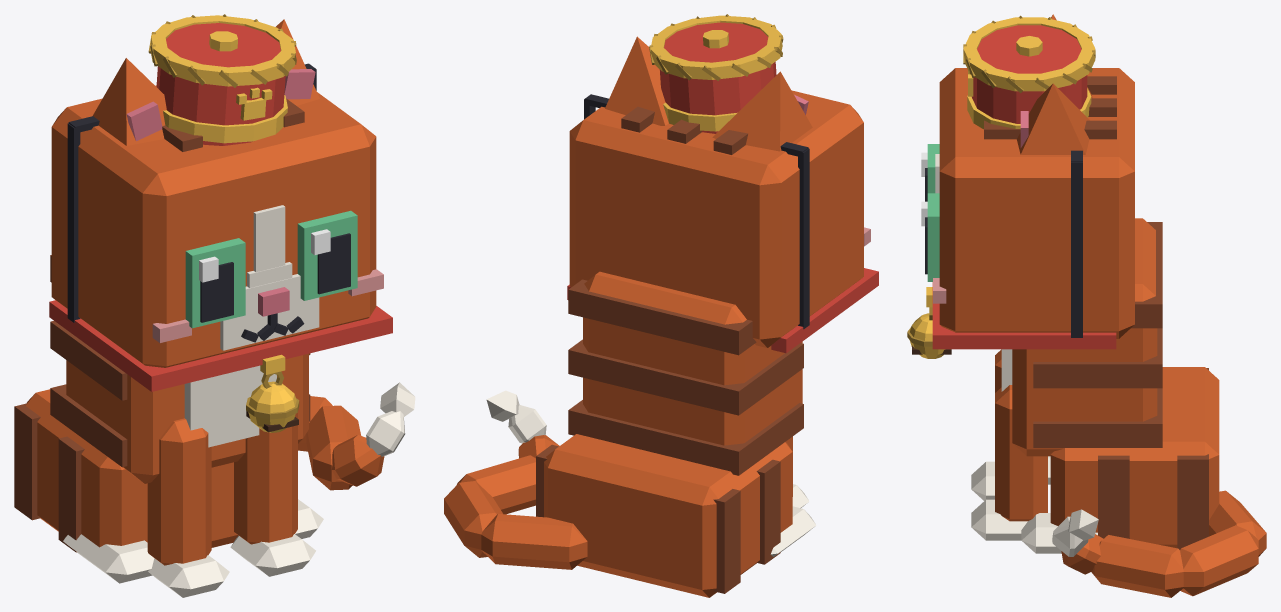
The model's file is CatCafe_Cat_BellhopCat_Sit.glb.
3 views of the same model, side by side, from view 1: azimuth 30°, elevation 25°; view 2: azimuth 150°, elevation 25°; view 3: azimuth 270°, elevation 25° (orthographic). The views are drawn at different scales.
Visible parts, largest first — view 1: CatCafe_Cat_BellhopCat_Sit_Head, CatCafe_Cat_BellhopCat_Sit_Body, CatCafe_Cat_BellhopCat_Sit_Prop, CatCafe_Cat_BellhopCat_Sit_Prop2, CatCafe_Cat_BellhopCat_Sit_LegF2, CatCafe_Cat_BellhopCat_Sit_LegF1, CatCafe_Cat_BellhopCat_Sit_Tail, CatCafe_Cat_BellhopCat_Sit_Eye2, CatCafe_Cat_BellhopCat_Sit_Eye1, CatCafe_Cat_BellhopCat_Sit_EarR, CatCafe_Cat_BellhopCat_Sit_Bell, CatCafe_Cat_BellhopCat_Sit_EarL; view 2: CatCafe_Cat_BellhopCat_Sit_Body, CatCafe_Cat_BellhopCat_Sit_Head, CatCafe_Cat_BellhopCat_Sit_Tail, CatCafe_Cat_BellhopCat_Sit_Prop, CatCafe_Cat_BellhopCat_Sit_Prop2, CatCafe_Cat_BellhopCat_Sit_EarR, CatCafe_Cat_BellhopCat_Sit_EarL; view 3: CatCafe_Cat_BellhopCat_Sit_Head, CatCafe_Cat_BellhopCat_Sit_Body, CatCafe_Cat_BellhopCat_Sit_Tail, CatCafe_Cat_BellhopCat_Sit_Prop, CatCafe_Cat_BellhopCat_Sit_LegF1, CatCafe_Cat_BellhopCat_Sit_Prop2, CatCafe_Cat_BellhopCat_Sit_EarL, CatCafe_Cat_BellhopCat_Sit_Eye1, CatCafe_Cat_BellhopCat_Sit_Bell, CatCafe_Cat_BellhopCat_Sit_LegF2, CatCafe_Cat_BellhopCat_Sit_Eye2.
Part boxes in pixels (x1,y1,x2,y2): CatCafe_Cat_BellhopCat_Sit_Head: [51, 85, 383, 367]; CatCafe_Cat_BellhopCat_Sit_Body: [14, 255, 323, 583]; CatCafe_Cat_BellhopCat_Sit_Prop: [148, 14, 296, 145]; CatCafe_Cat_BellhopCat_Sit_Prop2: [49, 63, 392, 391]; CatCafe_Cat_BellhopCat_Sit_LegF2: [147, 418, 229, 597]; CatCafe_Cat_BellhopCat_Sit_LegF1: [230, 412, 315, 576]; CatCafe_Cat_BellhopCat_Sit_Tail: [298, 382, 415, 490]; CatCafe_Cat_BellhopCat_Sit_Eye2: [185, 238, 245, 328]; CatCafe_Cat_BellhopCat_Sit_Eye1: [297, 210, 357, 300]; CatCafe_Cat_BellhopCat_Sit_EarR: [92, 58, 166, 145]; CatCafe_Cat_BellhopCat_Sit_Bell: [246, 371, 299, 432]; CatCafe_Cat_BellhopCat_Sit_EarL: [276, 19, 319, 105]; CatCafe_Cat_BellhopCat_Sit_Body: [536, 271, 816, 597]; CatCafe_Cat_BellhopCat_Sit_Head: [569, 90, 870, 347]; CatCafe_Cat_BellhopCat_Sit_Tail: [444, 390, 587, 569]; CatCafe_Cat_BellhopCat_Sit_Prop: [649, 14, 783, 133]; CatCafe_Cat_BellhopCat_Sit_Prop2: [567, 94, 878, 353]; CatCafe_Cat_BellhopCat_Sit_EarR: [712, 71, 812, 151]; CatCafe_Cat_BellhopCat_Sit_EarL: [605, 36, 668, 125]; CatCafe_Cat_BellhopCat_Sit_Head: [933, 68, 1134, 338]; CatCafe_Cat_BellhopCat_Sit_Body: [1001, 218, 1219, 553]; CatCafe_Cat_BellhopCat_Sit_Tail: [1052, 490, 1266, 597]; CatCafe_Cat_BellhopCat_Sit_Prop: [963, 15, 1095, 129]; CatCafe_Cat_BellhopCat_Sit_LegF1: [971, 385, 1047, 540]; CatCafe_Cat_BellhopCat_Sit_Prop2: [926, 150, 1116, 349]; CatCafe_Cat_BellhopCat_Sit_EarL: [1016, 83, 1089, 154]; CatCafe_Cat_BellhopCat_Sit_Eye1: [921, 193, 939, 281]; CatCafe_Cat_BellhopCat_Sit_Bell: [907, 307, 951, 358]; CatCafe_Cat_BellhopCat_Sit_LegF2: [971, 349, 1001, 500]; CatCafe_Cat_BellhopCat_Sit_Eye2: [921, 144, 939, 201].
Bounding box in the file's own units: 1.29 × 1.89 × 1.29.
1 material, 1 textured.
